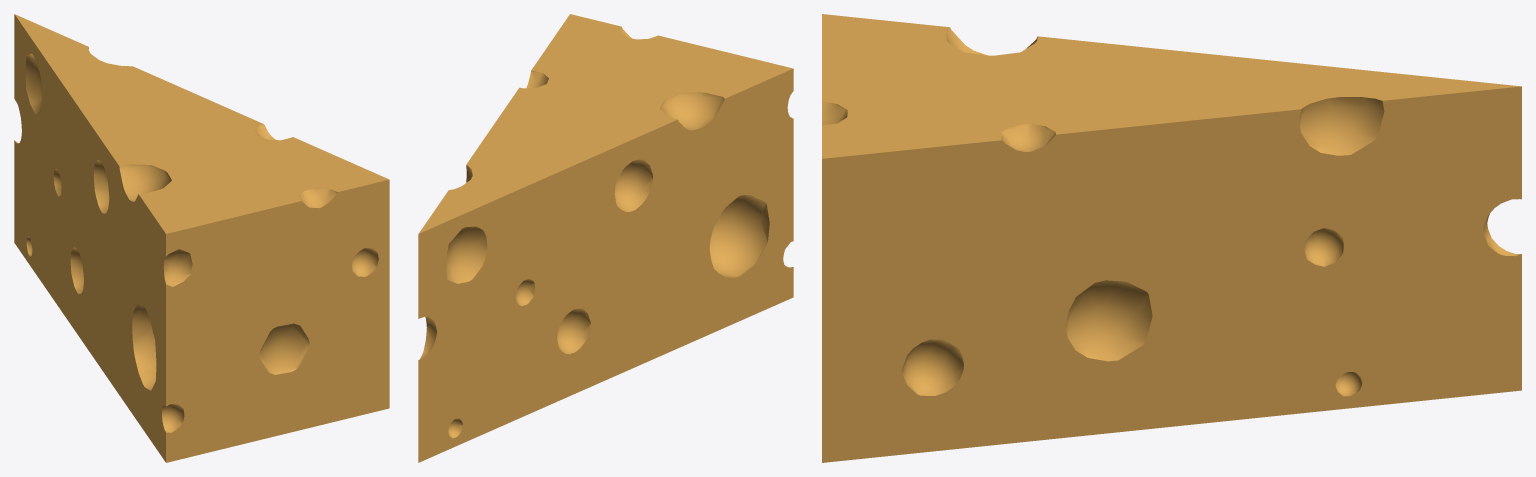
File: ser.fbx
3 renders of one model, left to right at view 1: azimuth 30°, elevation 25°; view 2: azimuth 150°, elevation 25°; view 3: azimuth 270°, elevation 25°, orthographic. The views are drawn at different scales.
Parts seen in each view (by area): view 1: Cylinder; view 2: Cylinder; view 3: Cylinder.
Part boxes in pixels (x1=…): Cylinder: x1=14, y1=14, x2=389, y2=462; Cylinder: x1=418, y1=14, x2=793, y2=462; Cylinder: x1=822, y1=14, x2=1521, y2=462.
Bounding box in the file's own units: 354 × 173 × 170.
